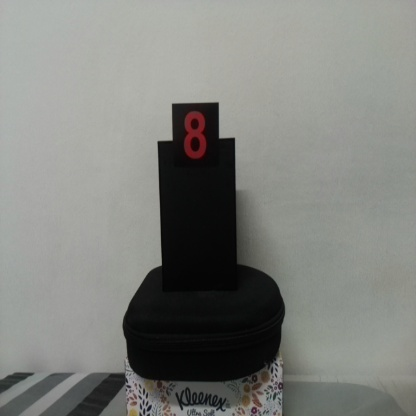id_8: (171, 104, 220, 174)
